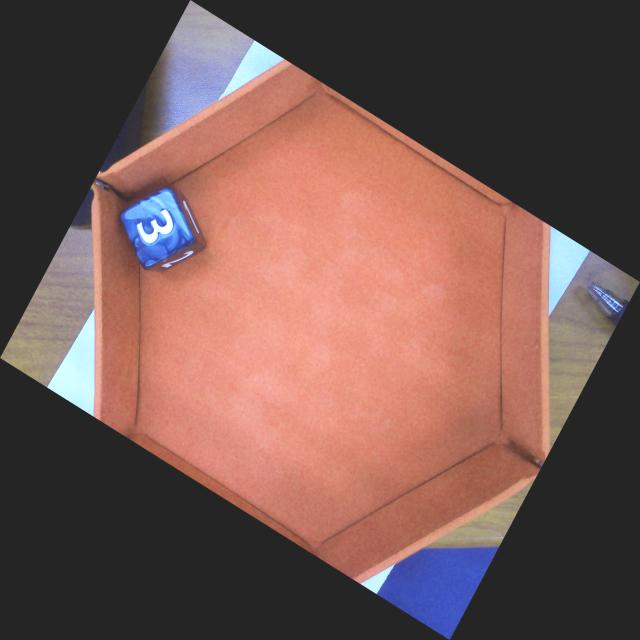dice: (119, 187, 196, 269)
